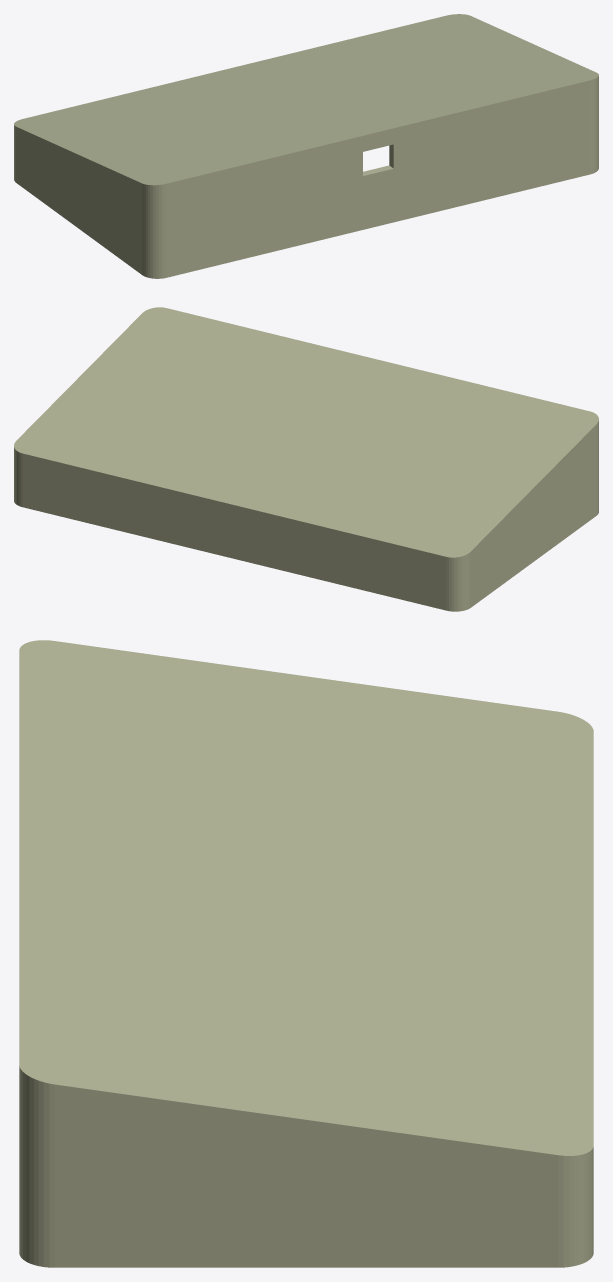
The model's file is tinker.obj.
The picture shows the model from 3 angles, top to bottom: view 1: azimuth 30°, elevation 25°; view 2: azimuth 150°, elevation 25°; view 3: azimuth 270°, elevation 25°; orthographic projection. The views are drawn at different scales.
Visible parts, largest first — view 1: obj_0; view 2: obj_0; view 3: obj_0.
Boxes of the visible parts, x1,y1,x2,y2 form: obj_0: (14,14,598,278); obj_0: (14,307,598,611); obj_0: (19,640,593,1267).
Size of the model in its own units: 177 by 35 by 96.8.
